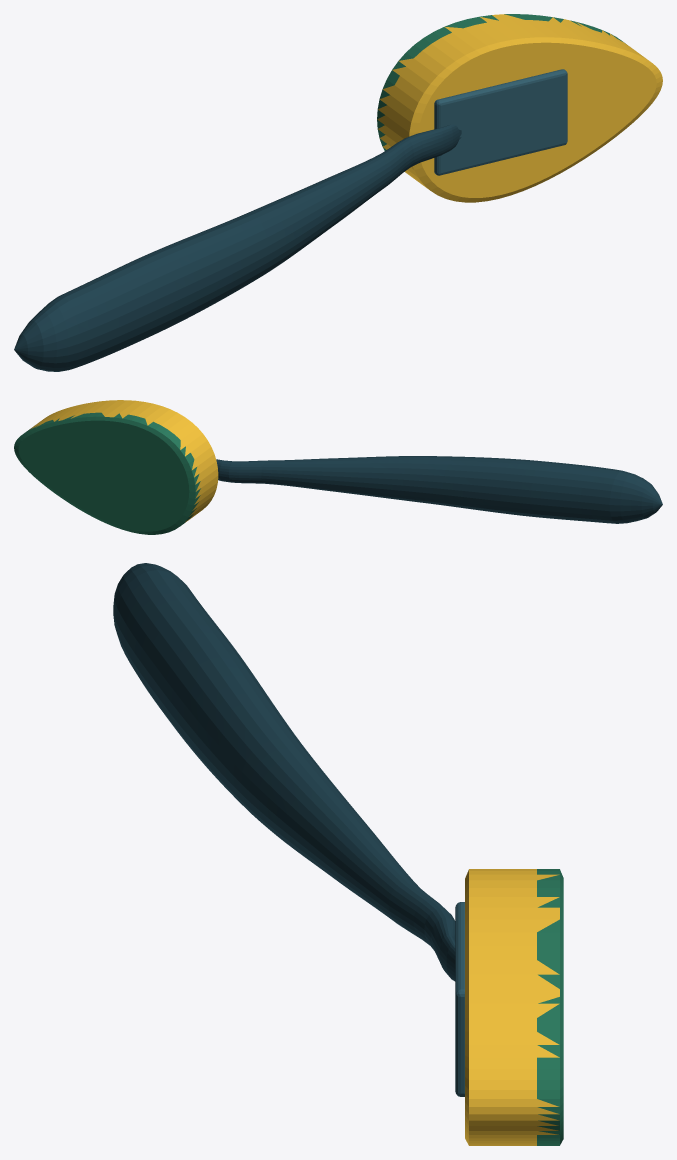
The picture shows the model from 3 angles, top to bottom: view 1: azimuth 30°, elevation 25°; view 2: azimuth 150°, elevation 25°; view 3: azimuth 270°, elevation 25°; orthographic projection. The views are drawn at different scales.
Parts seen in each view (by area): view 1: geometry_0; view 2: geometry_0; view 3: geometry_0.
Boxes of the visible parts, x1,y1,x2,y2 form: geometry_0: [14, 14, 662, 371]; geometry_0: [14, 400, 662, 534]; geometry_0: [113, 563, 563, 1145].
Bounding box in the file's own units: 0.255 × 0.05 × 0.0913.
Materials: 1 (1 with a texture image).
